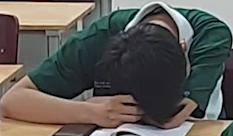Sleeping: (5, 5, 222, 128)
